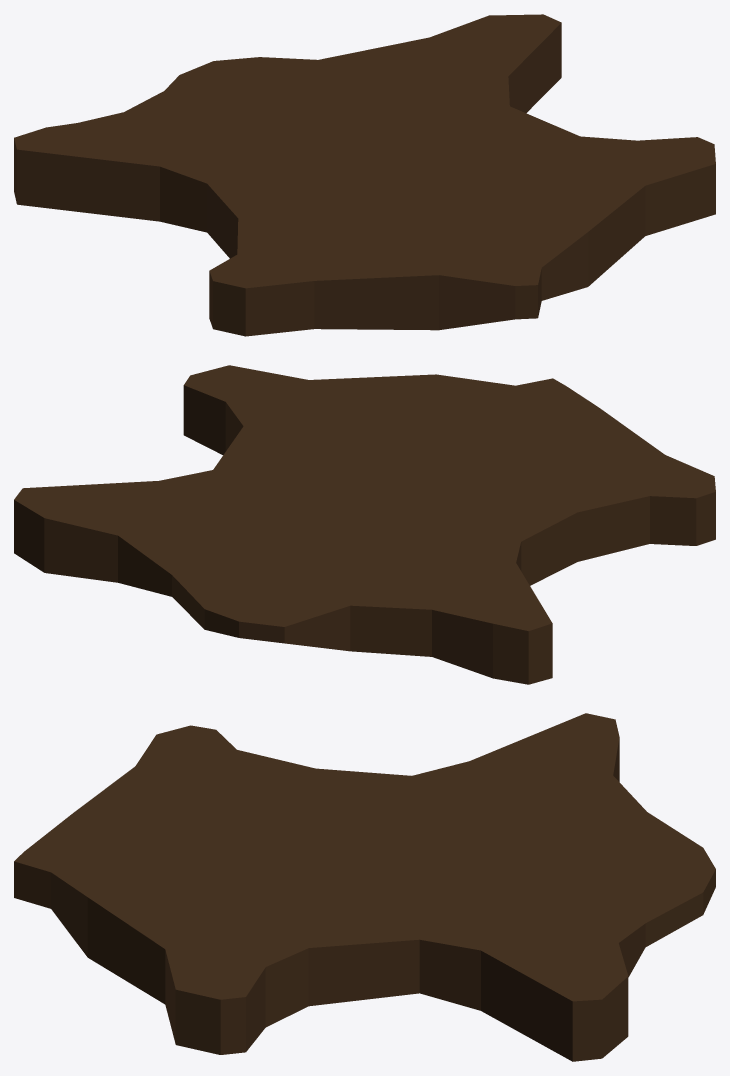
The model's file is Leather.fbx.
The picture shows the model from 3 angles, top to bottom: view 1: azimuth 30°, elevation 25°; view 2: azimuth 150°, elevation 25°; view 3: azimuth 270°, elevation 25°; orthographic projection. The views are drawn at different scales.
Parts seen in each view (by area): view 1: Cube; view 2: Cube; view 3: Cube.
Part boxes in pixels (left/top/right/bottom): Cube: left=14, top=14, right=715, bottom=336; Cube: left=14, top=365, right=715, bottom=684; Cube: left=14, top=713, right=715, bottom=1061.
Size of the model in its own units: 86.56 by 8.46 by 89.08.
